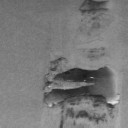slag inclusion: (42, 56, 117, 128), (78, 0, 112, 21), (88, 48, 105, 59), (91, 21, 101, 30)
